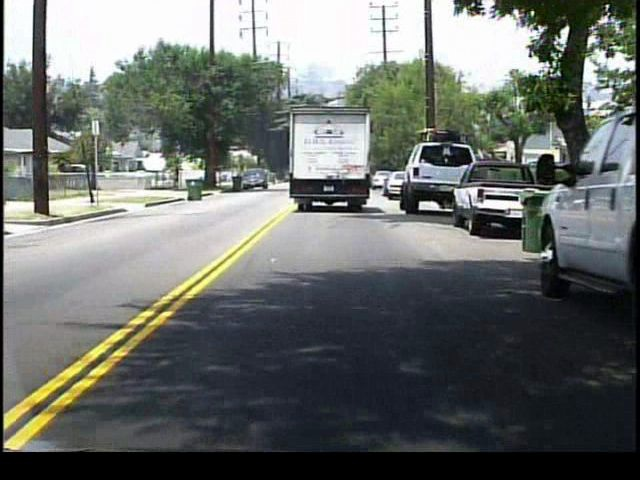person: (174, 165, 184, 191)
